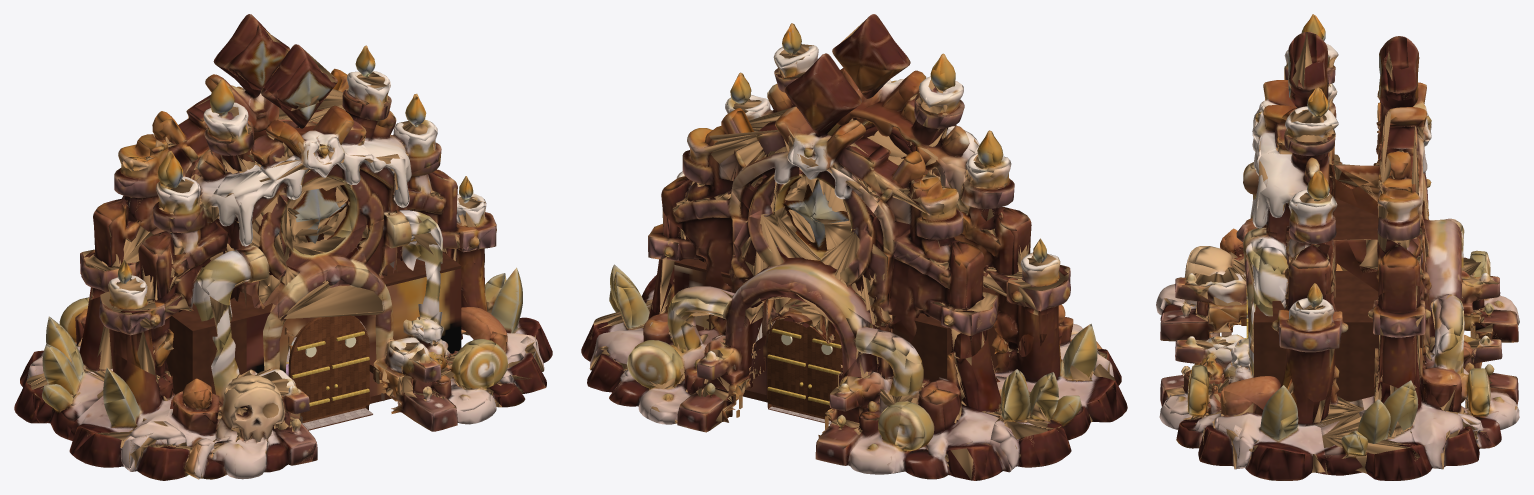
Rendered from GIN_RuneBuilding_Fractured.fbx.
3 renders of one model, left to right at view 1: azimuth 30°, elevation 25°; view 2: azimuth 150°, elevation 25°; view 3: azimuth 270°, elevation 25°, orthographic. The views are drawn at different scales.
Parts seen in each view (by area): view 1: GIN_RuneBuilding_Frag_27, GIN_RuneBuilding_Frag_33, GIN_RuneBuilding_Frag_14, GIN_RuneBuilding_Frag_32, GIN_RuneBuilding_Frag_31, GIN_RuneBuilding_Frag_22, GIN_RuneBuilding_Frag_28, GIN_RuneBuilding_Frag_25, GIN_RuneBuilding_Frag_44, GIN_RuneBuilding_Frag_09, GIN_RuneBuilding_Frag_35, GIN_RuneBuilding_Frag_43 (+26 smaller); view 2: GIN_RuneBuilding_Frag_29, GIN_RuneBuilding_Frag_04, GIN_RuneBuilding_Frag_24, GIN_RuneBuilding_Frag_39, GIN_RuneBuilding_Frag_16, GIN_RuneBuilding_Frag_01, GIN_RuneBuilding_Frag_43, GIN_RuneBuilding_Frag_05, GIN_RuneBuilding_Frag_21, GIN_RuneBuilding_Frag_03, GIN_RuneBuilding_Frag_00, GIN_RuneBuilding_Frag_44 (+23 smaller); view 3: GIN_RuneBuilding_Frag_30, GIN_RuneBuilding_Frag_18, GIN_RuneBuilding_Frag_17, GIN_RuneBuilding_Frag_21, GIN_RuneBuilding_Frag_49, GIN_RuneBuilding_Frag_05, GIN_RuneBuilding_Frag_53, GIN_RuneBuilding_Frag_28, GIN_RuneBuilding_Frag_38, GIN_RuneBuilding_Frag_46, GIN_RuneBuilding_Frag_04, GIN_RuneBuilding_Frag_09 (+25 smaller).
Part boxes in pixels (x1,y1,x2,y2): GIN_RuneBuilding_Frag_27: (182, 170, 300, 305); GIN_RuneBuilding_Frag_33: (260, 101, 373, 229); GIN_RuneBuilding_Frag_14: (109, 271, 235, 393); GIN_RuneBuilding_Frag_32: (196, 381, 316, 479); GIN_RuneBuilding_Frag_31: (277, 225, 384, 336); GIN_RuneBuilding_Frag_22: (391, 342, 501, 431); GIN_RuneBuilding_Frag_28: (402, 245, 500, 355); GIN_RuneBuilding_Frag_25: (353, 206, 442, 313); GIN_RuneBuilding_Frag_44: (68, 350, 179, 454); GIN_RuneBuilding_Frag_09: (314, 125, 411, 231); GIN_RuneBuilding_Frag_35: (72, 421, 202, 480); GIN_RuneBuilding_Frag_43: (99, 233, 190, 332); GIN_RuneBuilding_Frag_29: (891, 242, 997, 363); GIN_RuneBuilding_Frag_04: (703, 106, 806, 215); GIN_RuneBuilding_Frag_24: (894, 389, 998, 480); GIN_RuneBuilding_Frag_39: (792, 122, 882, 230); GIN_RuneBuilding_Frag_16: (734, 206, 826, 319); GIN_RuneBuilding_Frag_01: (806, 223, 909, 327); GIN_RuneBuilding_Frag_43: (961, 207, 1070, 315); GIN_RuneBuilding_Frag_05: (610, 307, 712, 418); GIN_RuneBuilding_Frag_21: (661, 128, 748, 247); GIN_RuneBuilding_Frag_03: (670, 242, 775, 341); GIN_RuneBuilding_Frag_00: (837, 323, 938, 417); GIN_RuneBuilding_Frag_44: (1008, 323, 1116, 426); GIN_RuneBuilding_Frag_30: (1276, 290, 1380, 402); GIN_RuneBuilding_Frag_18: (1321, 382, 1422, 480); GIN_RuneBuilding_Frag_17: (1236, 385, 1325, 480); GIN_RuneBuilding_Frag_21: (1347, 188, 1424, 300); GIN_RuneBuilding_Frag_49: (1252, 229, 1335, 329); GIN_RuneBuilding_Frag_05: (1420, 340, 1516, 445); GIN_RuneBuilding_Frag_53: (1376, 285, 1457, 390); GIN_RuneBuilding_Frag_28: (1190, 304, 1294, 409); GIN_RuneBuilding_Frag_38: (1176, 378, 1263, 469); GIN_RuneBuilding_Frag_46: (1410, 387, 1494, 476); GIN_RuneBuilding_Frag_04: (1377, 109, 1431, 225); GIN_RuneBuilding_Frag_09: (1252, 137, 1330, 233).
Size of the model in its own units: 3702 by 2687 by 2555.
